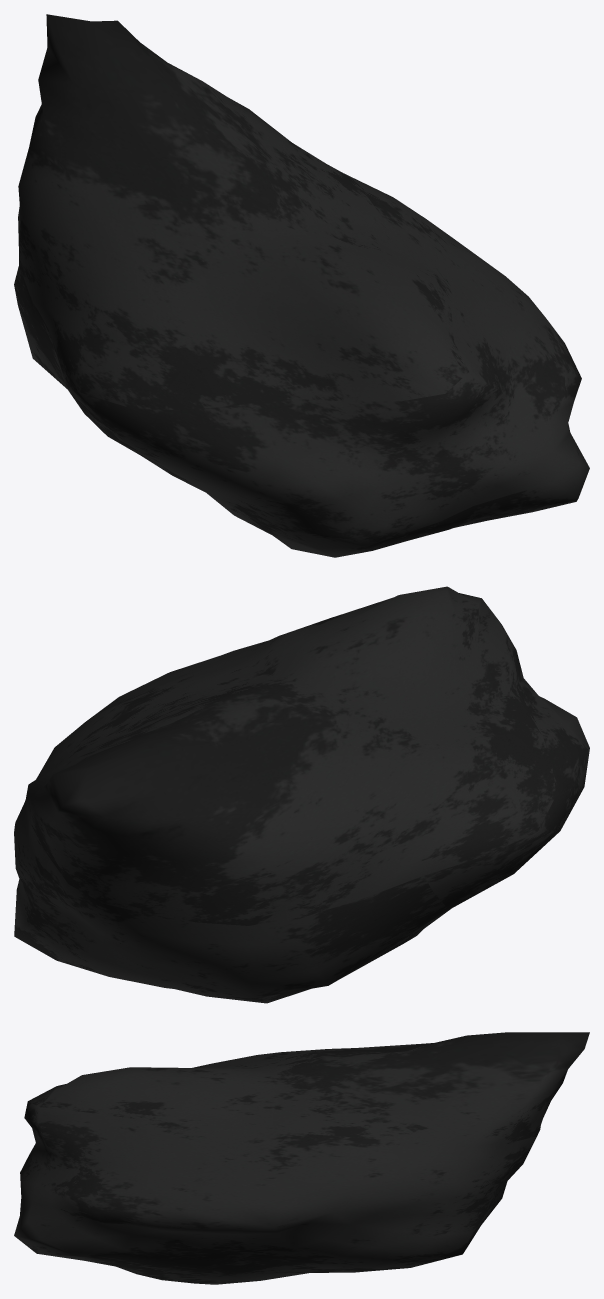
The model's file is Roca2.fbx.
The picture shows the model from 3 angles, top to bottom: view 1: azimuth 30°, elevation 25°; view 2: azimuth 150°, elevation 25°; view 3: azimuth 270°, elevation 25°; orthographic projection. The views are drawn at different scales.
Visible parts, largest first — view 1: Piedra2; view 2: Piedra2; view 3: Piedra2.
Part boxes in pixels (x1,y1,x2,y2): Piedra2: (14,14,589,557); Piedra2: (14,586,589,1003); Piedra2: (14,1032,589,1284).
Size of the model in its own units: 641 by 448 by 1025.
1 material, 1 textured.
